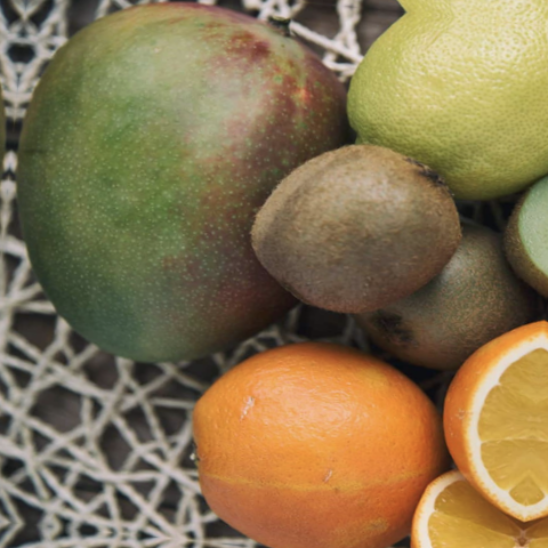kiwi: (0, 0, 357, 419), (235, 136, 471, 323)
orange: (171, 324, 449, 548)
